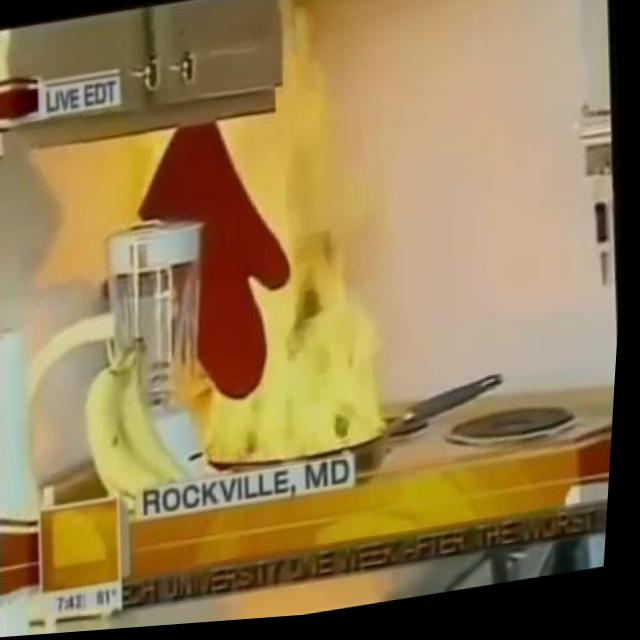fire: (188, 179, 409, 480)
